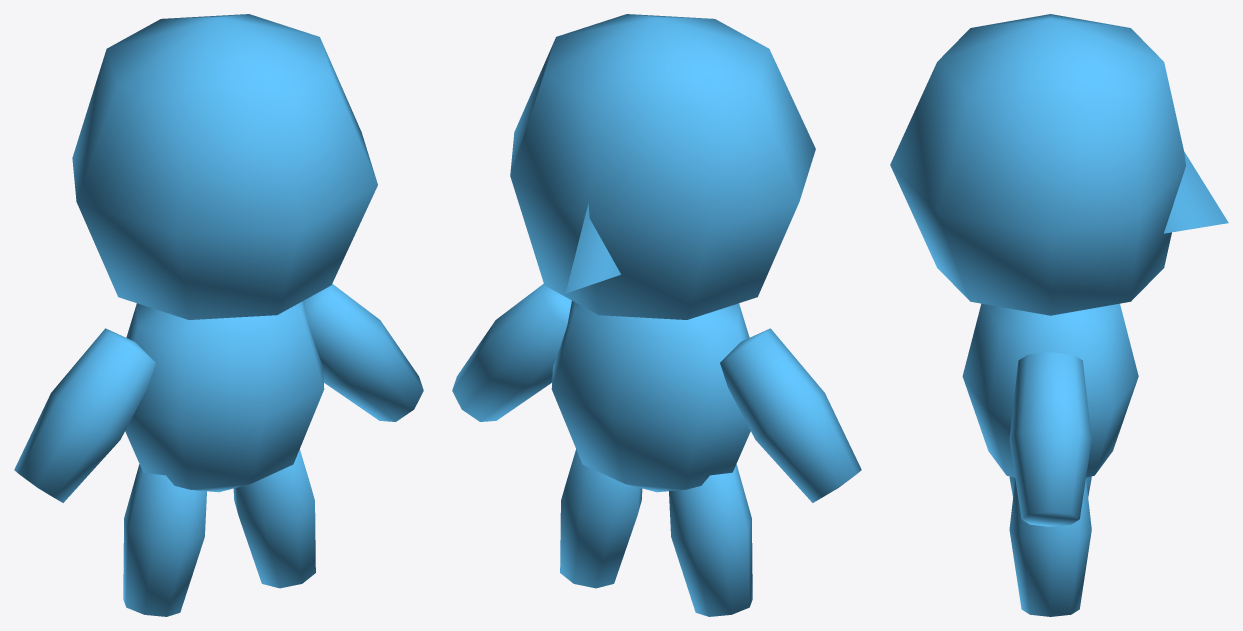
The model's file is MODEL_Hero.FBX.
The picture shows the model from 3 angles, left to right: view 1: azimuth 30°, elevation 25°; view 2: azimuth 150°, elevation 25°; view 3: azimuth 270°, elevation 25°; orthographic projection. The views are drawn at different scales.
Visible parts, largest first — view 1: MESH_Hero; view 2: MESH_Hero; view 3: MESH_Hero.
Boxes of the visible parts, left/top/right/bottom form: MESH_Hero: left=14, top=14, right=423, bottom=616; MESH_Hero: left=452, top=14, right=861, bottom=616; MESH_Hero: left=890, top=14, right=1228, bottom=616.
Size of the model in its own units: 7.26 by 9.99 by 5.46.
